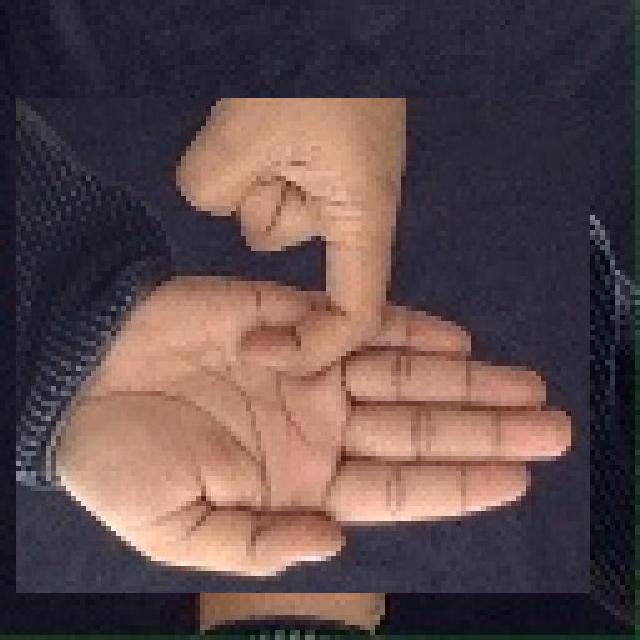R: (16, 98, 590, 593)
